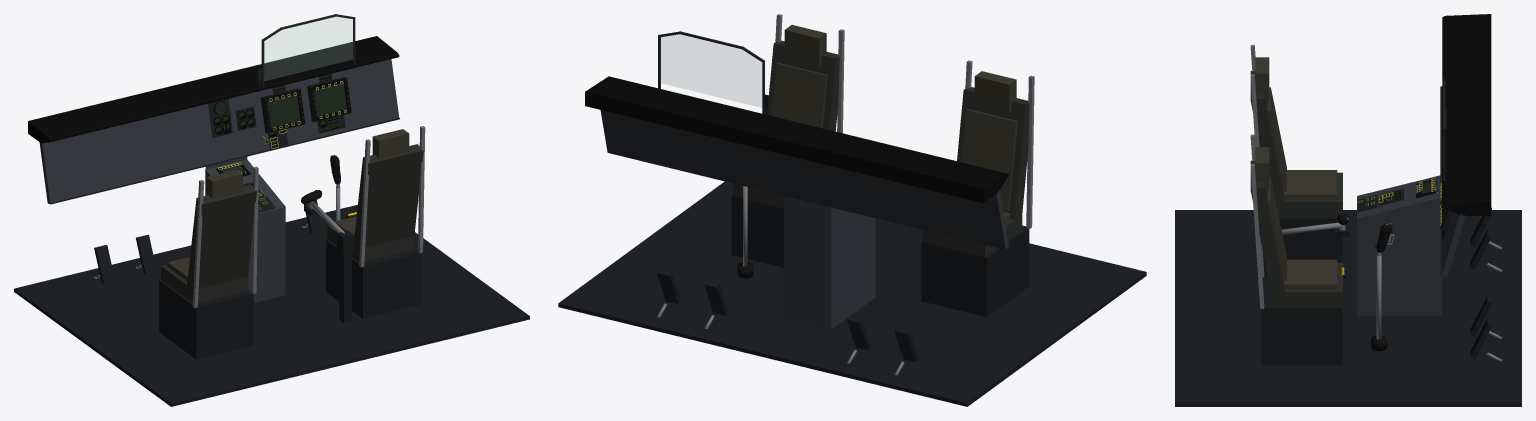
The model's file is cockpit_uh60.glb.
3 renders of one model, left to right at view 1: azimuth 30°, elevation 25°; view 2: azimuth 150°, elevation 25°; view 3: azimuth 270°, elevation 25°, orthographic. The views are drawn at different scales.
Parts seen in each view (by area): view 1: dark.103, panel_grey, black, dark.109, seat_95.001, seat_95, dark.108, hud_glass_69, panel_grey.001, seat_93.001, seat_93, dark.111 (+11 smaller); view 2: dark.103, panel_grey, black, panel_grey.001, dark.109, hud_glass_69, panel_grey.002, cushion_96.001, dark.108, cushion_96, seat_95.001, seat_95 (+8 smaller); view 3: dark.103, black, panel_grey.001, dark.108, dark.109, seat_95, cushion_94, cushion_94.001, seat_93, seat_93.001, seat_95.001, panel_grey (+11 smaller).
Boxes of the visible parts, x1,y1,x2,y2 form: dark.103: (14,204,529,406); panel_grey: (39,59,399,203); black: (28,36,399,143); dark.109: (159,280,253,359); seat_95.001: (187,184,256,292); seat_95: (354,144,423,250); dark.108: (326,239,420,318); hud_glass_69: (264,17,352,80); panel_grey.001: (205,159,285,302); seat_93.001: (161,264,247,302); seat_93: (327,225,414,261); dark.111: (339,250,351,322); dark.103: (558,181,1146,406); panel_grey: (600,110,1008,249); black: (585,76,1008,202); panel_grey.001: (784,196,875,329); dark.109: (921,225,1029,317); hud_glass_69: (661,34,761,107); panel_grey.002: (784,197,831,329); cushion_96.001: (961,109,1017,210); dark.108: (731,195,783,267); cushion_96: (771,62,827,128); seat_95.001: (957,87,1029,220); seat_95: (767,40,839,131); dark.103: (1175,210,1521,406); black: (1442,14,1491,215); panel_grey.001: (1357,175,1442,316); dark.108: (1260,277,1342,365); dark.109: (1279,217,1342,262); seat_95: (1250,160,1284,293); cushion_94: (1284,259,1337,289); cushion_94.001: (1284,170,1337,199); seat_93: (1270,262,1342,306); seat_93.001: (1276,172,1342,217); seat_95.001: (1250,71,1284,201); panel_grey: (1442,86,1465,276).
Size of the model in its own units: 2.24 by 1.39 by 1.7.
25 materials, 6 textured.
